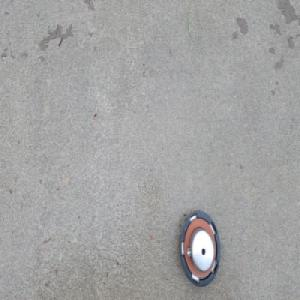FuelCap: (175, 205, 219, 285)
